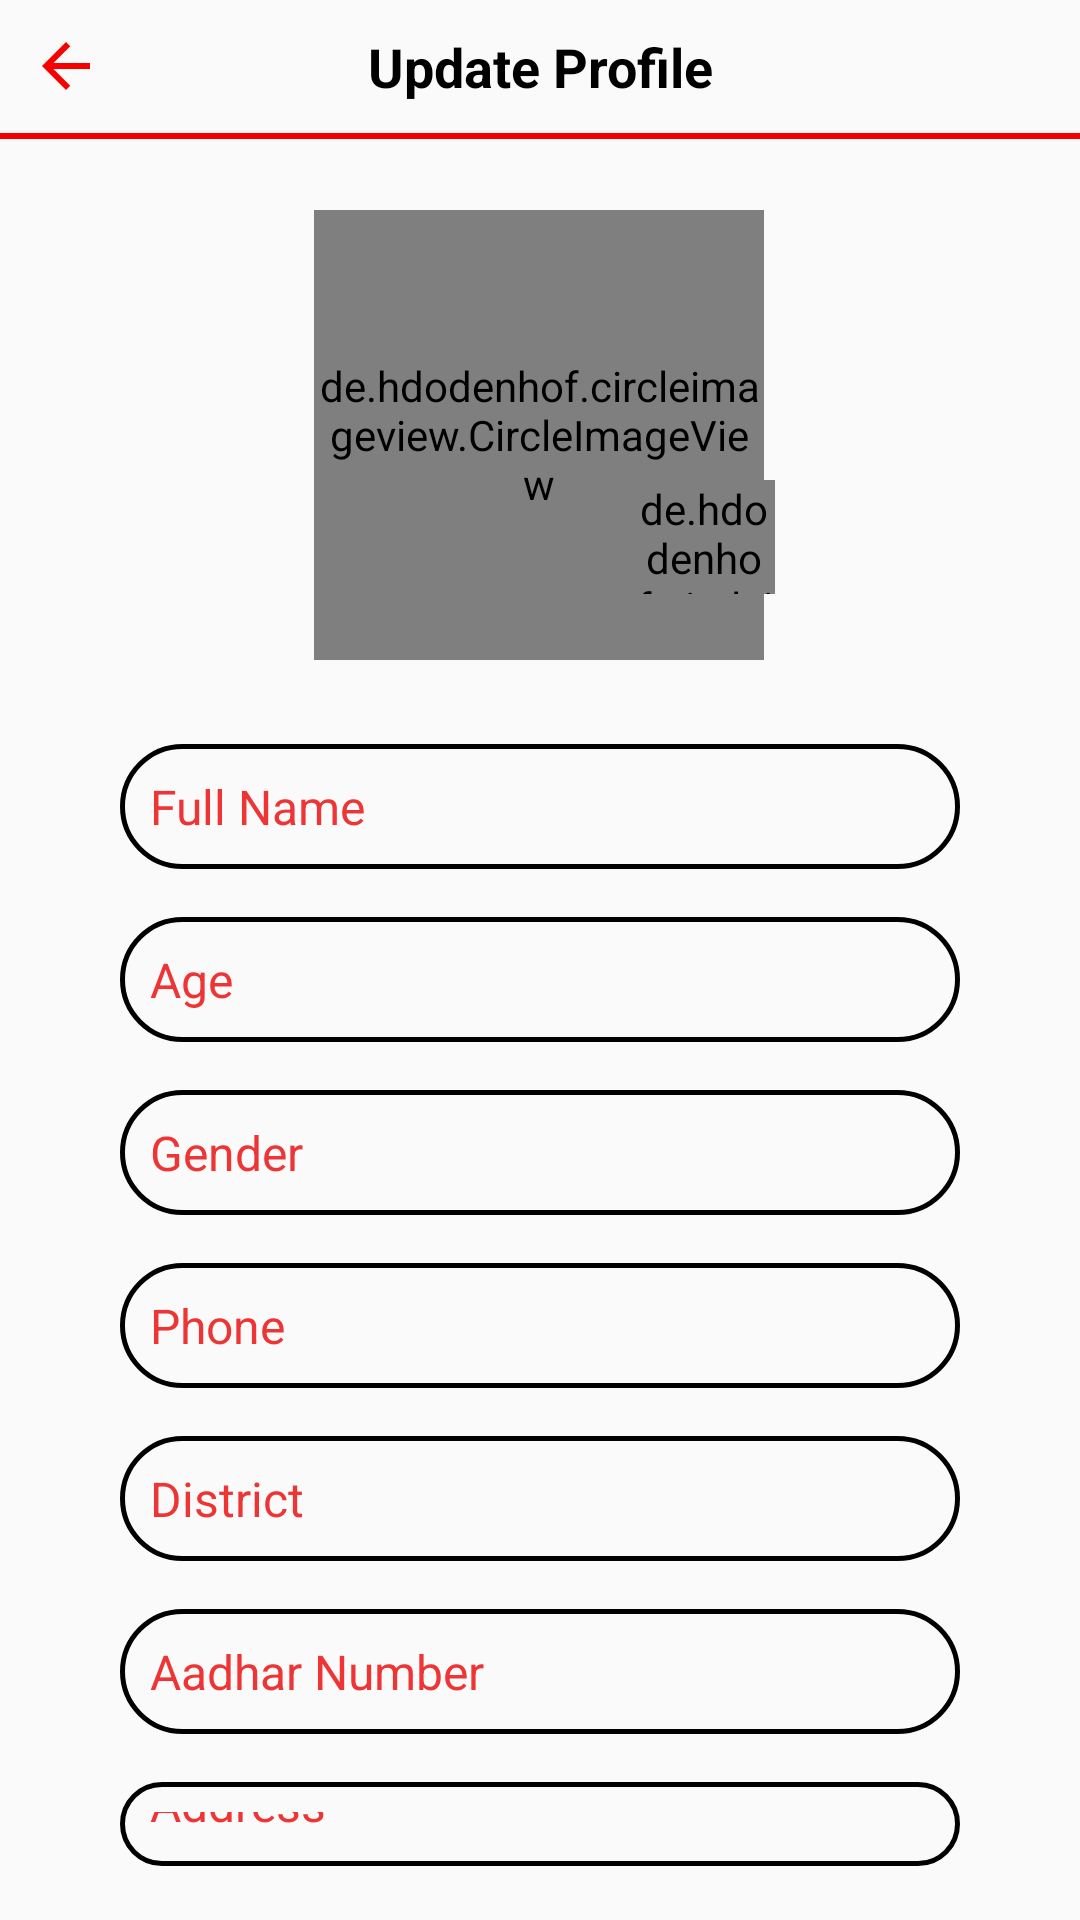

Screen size 1080w x 1920h. Icon name, then its center in pixels as (x,y):
arrow back: (66,66)
